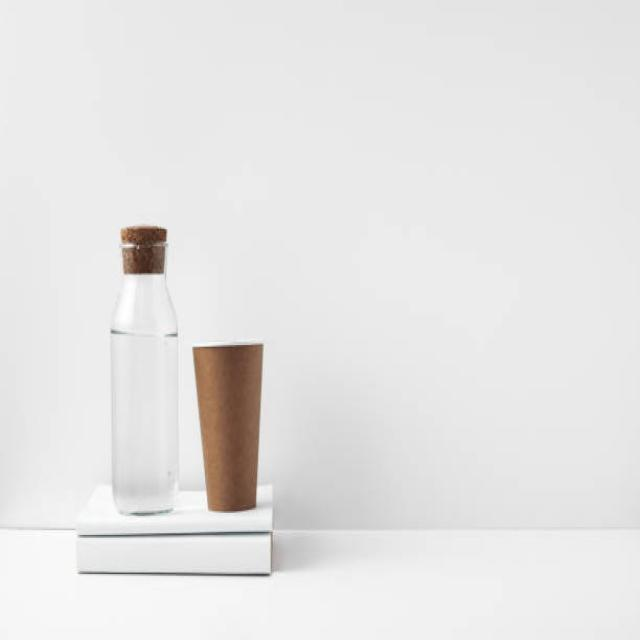cardboard: (188, 304, 286, 522)
glass: (91, 209, 189, 522)
